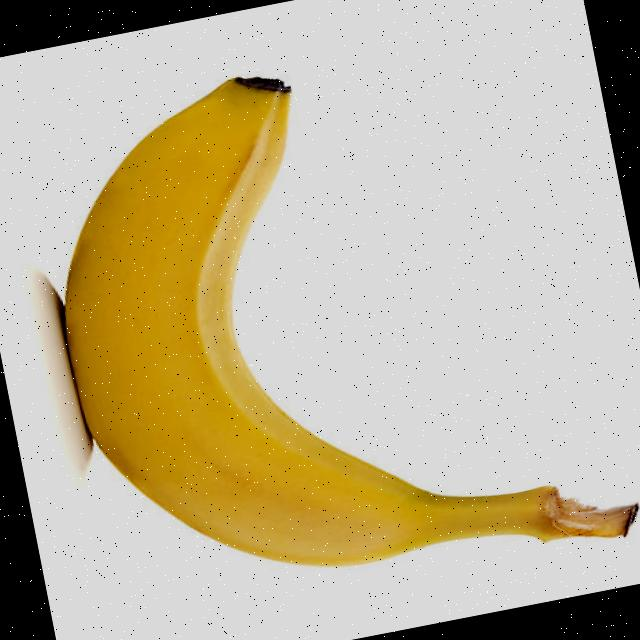Ripe: (18, 30, 568, 612)
